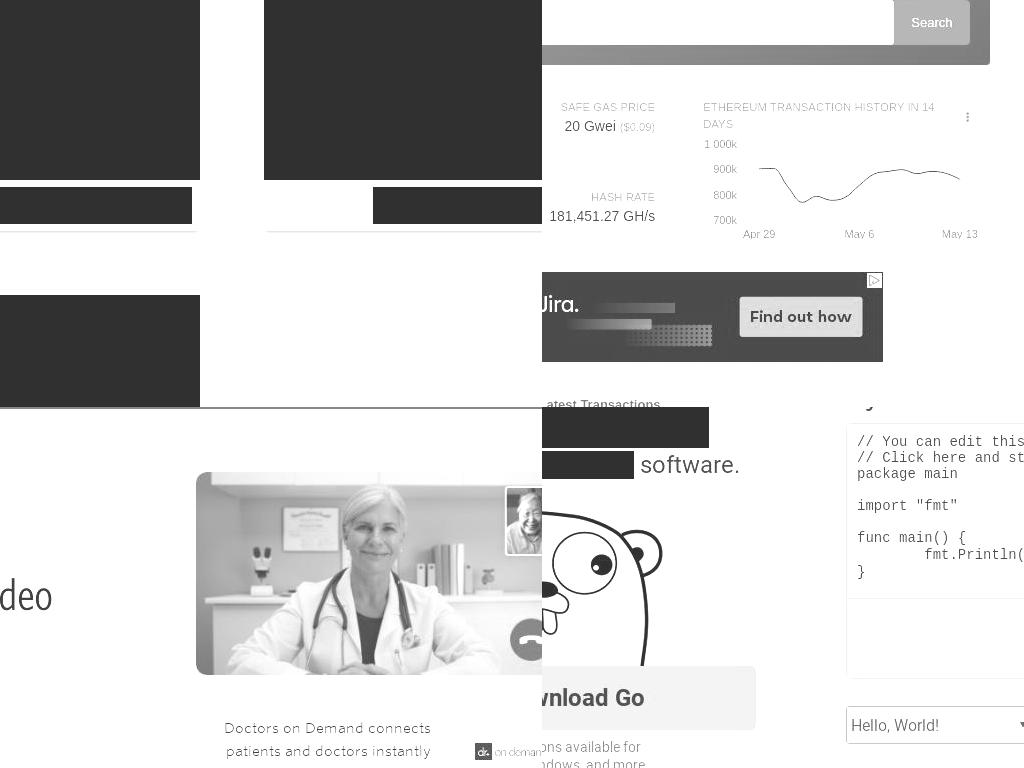button: (264, 0, 542, 180), (0, 0, 200, 180), (0, 295, 200, 407), (542, 666, 756, 730), (0, 187, 192, 224), (373, 187, 542, 224), (894, 0, 970, 46), (957, 106, 978, 127)
field: (847, 424, 1024, 598), (542, 0, 895, 46), (846, 706, 1024, 744)
heading: (703, 99, 958, 134), (0, 522, 157, 571), (542, 407, 709, 448), (0, 311, 114, 340), (633, 451, 740, 479), (545, 451, 634, 479), (0, 571, 53, 618), (549, 189, 656, 207), (560, 99, 656, 117), (542, 395, 661, 407), (846, 407, 910, 413)
iframe: (542, 272, 895, 363)
image: (195, 472, 542, 676), (542, 511, 756, 666), (703, 133, 978, 240), (297, 0, 542, 67), (856, 609, 1024, 668), (0, 356, 167, 407), (474, 742, 542, 760)
link: (280, 84, 521, 101), (0, 197, 176, 214), (389, 197, 542, 214), (0, 84, 118, 101)
text: (280, 84, 542, 155), (0, 84, 167, 173), (206, 716, 431, 768), (542, 684, 645, 712), (542, 739, 641, 755), (549, 208, 621, 225), (542, 757, 650, 768), (564, 118, 620, 135), (911, 12, 953, 32), (619, 208, 655, 225), (941, 228, 979, 241), (619, 121, 655, 134), (704, 138, 738, 151), (743, 228, 776, 241), (844, 228, 875, 241), (713, 214, 738, 227), (713, 189, 738, 202), (713, 163, 738, 176)
